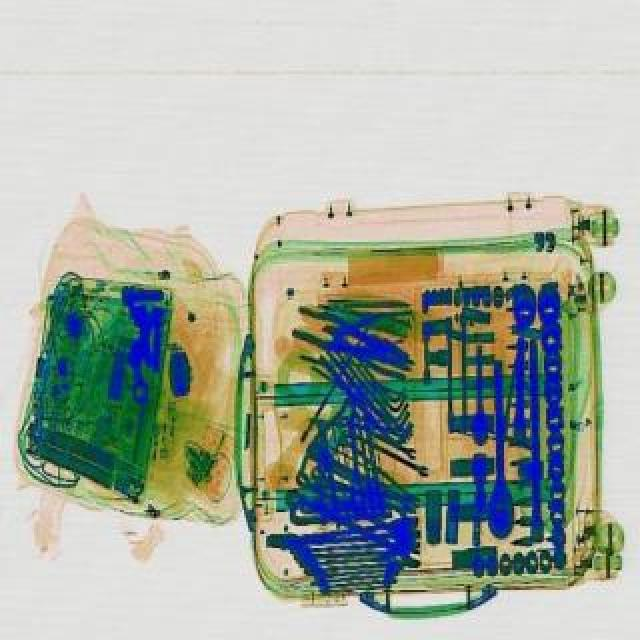scissors: (282, 484, 426, 568), (308, 464, 420, 522), (338, 424, 430, 476), (342, 412, 418, 456)
wrench: (286, 300, 420, 376), (314, 294, 418, 376)
